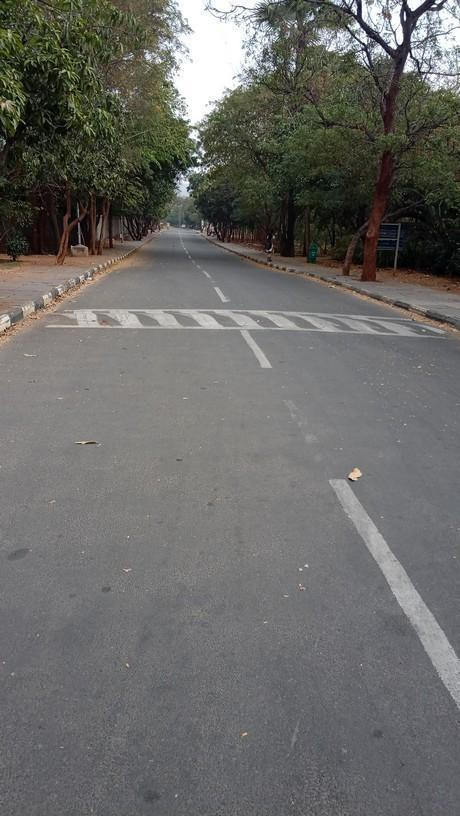speedbreaker: (39, 304, 460, 330)
